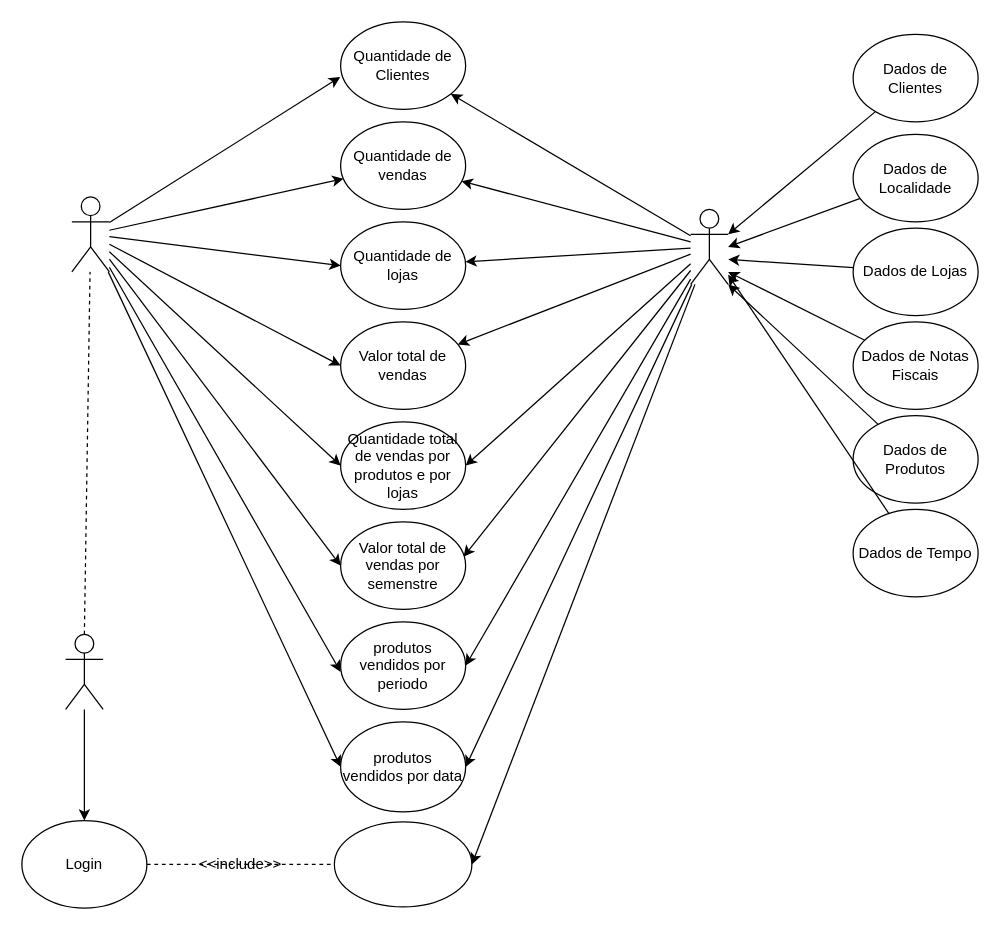
The diagram is 1000 pixels wide and 930 high, and some of its shapes have lost their labels. Each missing label, with the centre of its shape:
"Gerente" belongs at (x=83, y=671).
"Sistema" belongs at (x=708, y=246).
"Usuário" belongs at (x=90, y=234).
"Valor de Vendas por Cliente" belongs at (x=402, y=864).
